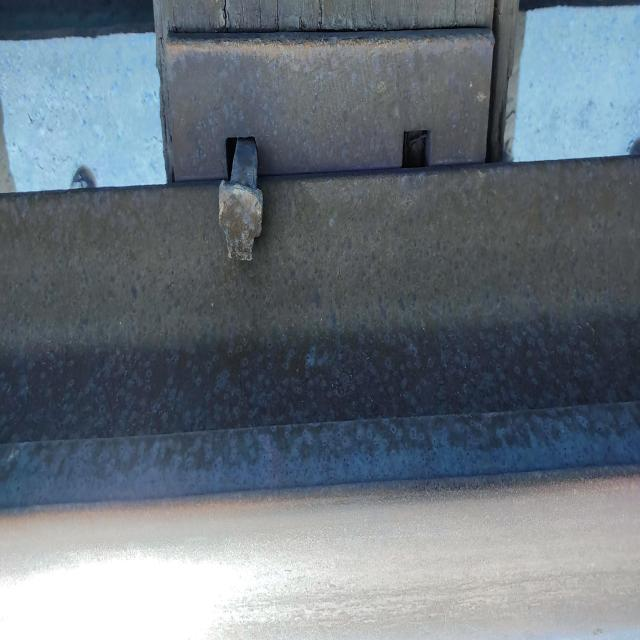Missing Dogscrew: (402, 130, 430, 168)
